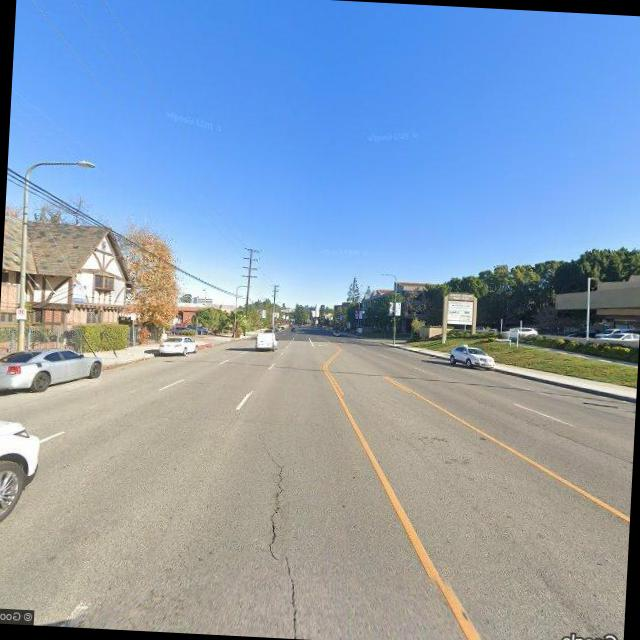pothole: (258, 438, 318, 638)
